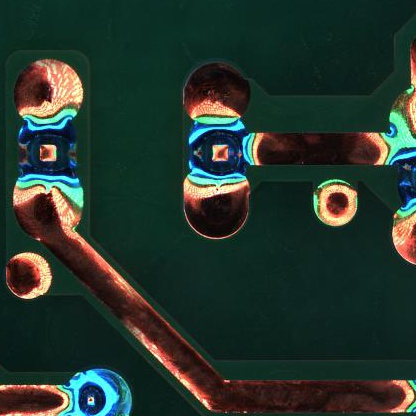spot: (14, 113, 83, 187), (186, 113, 252, 187), (67, 363, 133, 416)
